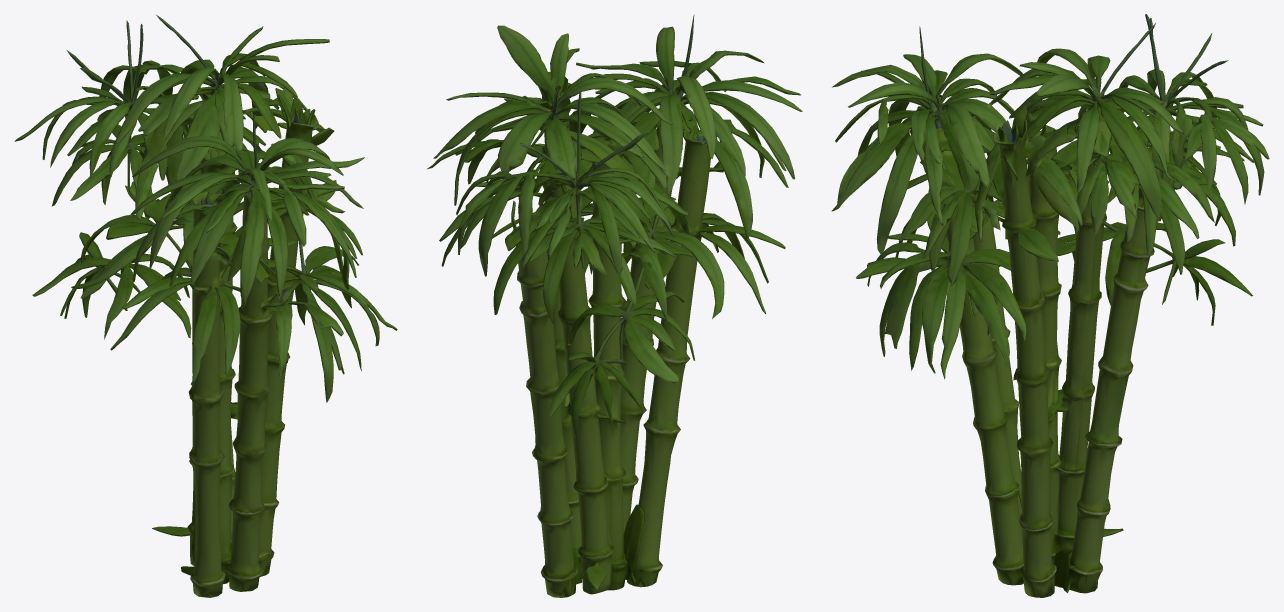
File: bamboo-cluster.glb
The picture shows the model from 3 angles, left to right: view 1: azimuth 30°, elevation 25°; view 2: azimuth 150°, elevation 25°; view 3: azimuth 270°, elevation 25°; orthographic projection. The views are drawn at different scales.
Parts seen in each view (by area): view 1: tripo_node_da4aacd9-ea37-4d91-ba47-d87d455e236d; view 2: tripo_node_da4aacd9-ea37-4d91-ba47-d87d455e236d; view 3: tripo_node_da4aacd9-ea37-4d91-ba47-d87d455e236d.
Boxes of the visible parts, left/top/right/bottom form: tripo_node_da4aacd9-ea37-4d91-ba47-d87d455e236d: left=14, top=14, right=397, bottom=597; tripo_node_da4aacd9-ea37-4d91-ba47-d87d455e236d: left=427, top=14, right=802, bottom=597; tripo_node_da4aacd9-ea37-4d91-ba47-d87d455e236d: left=831, top=14, right=1269, bottom=597.
Size of the model in its own units: 0.6338 by 1.2 by 0.87.
Materials: 1 (1 with a texture image).
